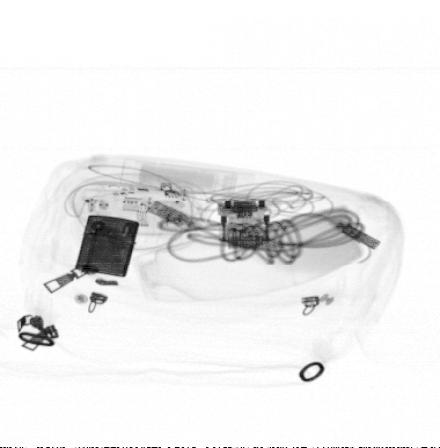Lighter: (75, 216, 140, 278)
